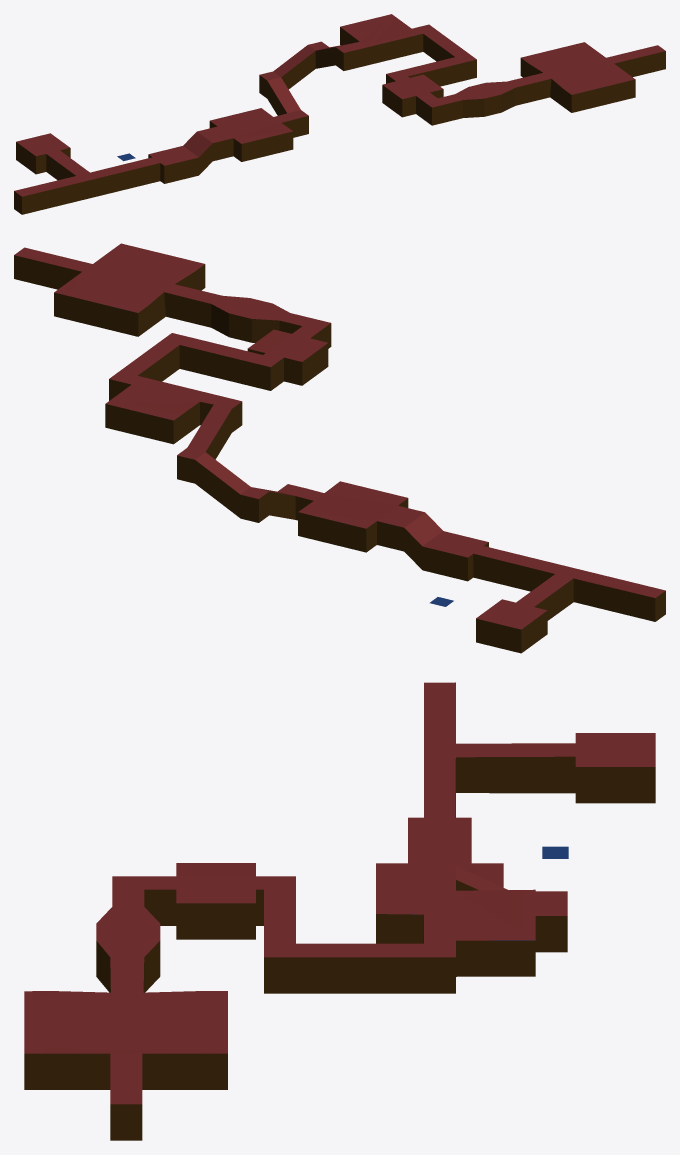
Rendered from Lv1_RailShooterr.fbx.
The picture shows the model from 3 angles, top to bottom: view 1: azimuth 30°, elevation 25°; view 2: azimuth 150°, elevation 25°; view 3: azimuth 270°, elevation 25°; orthographic projection. The views are drawn at different scales.
Parts seen in each view (by area): view 1: polySurface8 (×2); view 2: polySurface8 (×2); view 3: polySurface8 (×2).
Boxes of the visible parts, box(x1,y1,x2,y2) form: polySurface8 (×2): box(14, 14, 665, 214); polySurface8 (×2): box(14, 243, 665, 653); polySurface8 (×2): box(24, 682, 655, 1140).
Bounding box in the file's own units: 163 × 23.01 × 79.
